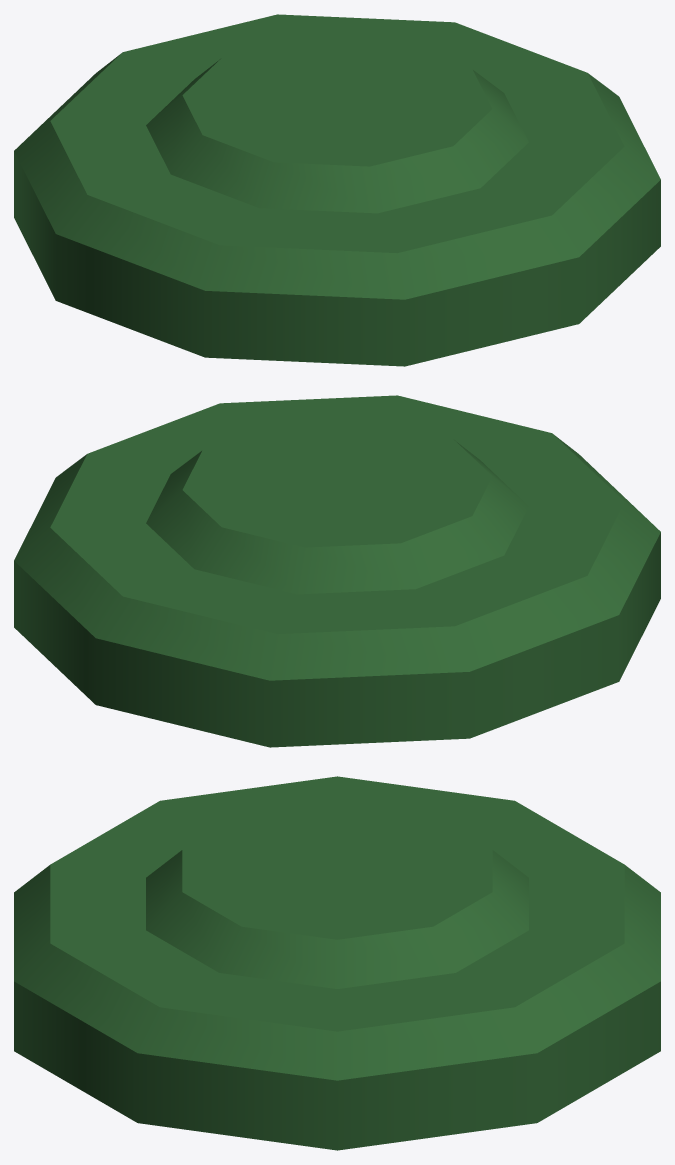
The model's file is SmallMine.fbx.
3 renders of one model, top to bottom at view 1: azimuth 30°, elevation 25°; view 2: azimuth 150°, elevation 25°; view 3: azimuth 270°, elevation 25°, orthographic. The views are drawn at different scales.
Visible parts, largest first — view 1: SmallMine; view 2: SmallMine; view 3: SmallMine.
Part boxes in pixels (left/top/right/bottom): SmallMine: left=14, top=14, right=660, bottom=366; SmallMine: left=14, top=395, right=660, bottom=747; SmallMine: left=14, top=776, right=660, bottom=1150.
Bounding box in the file's own units: 30 × 6.61 × 28.53.
